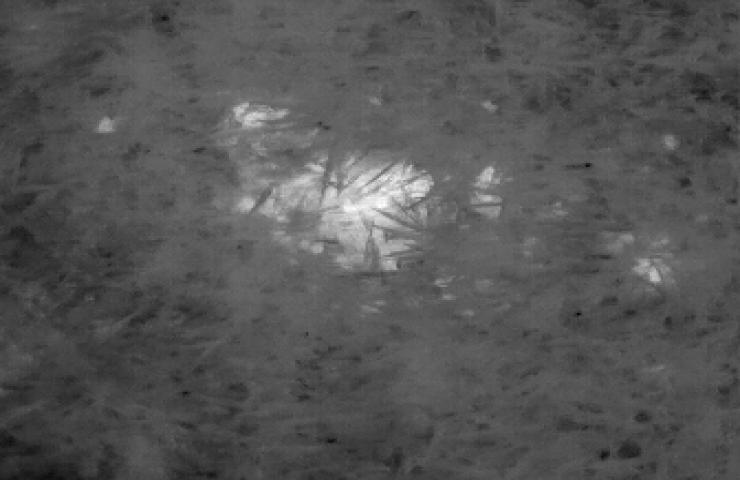landmines: (245, 142, 443, 275)
